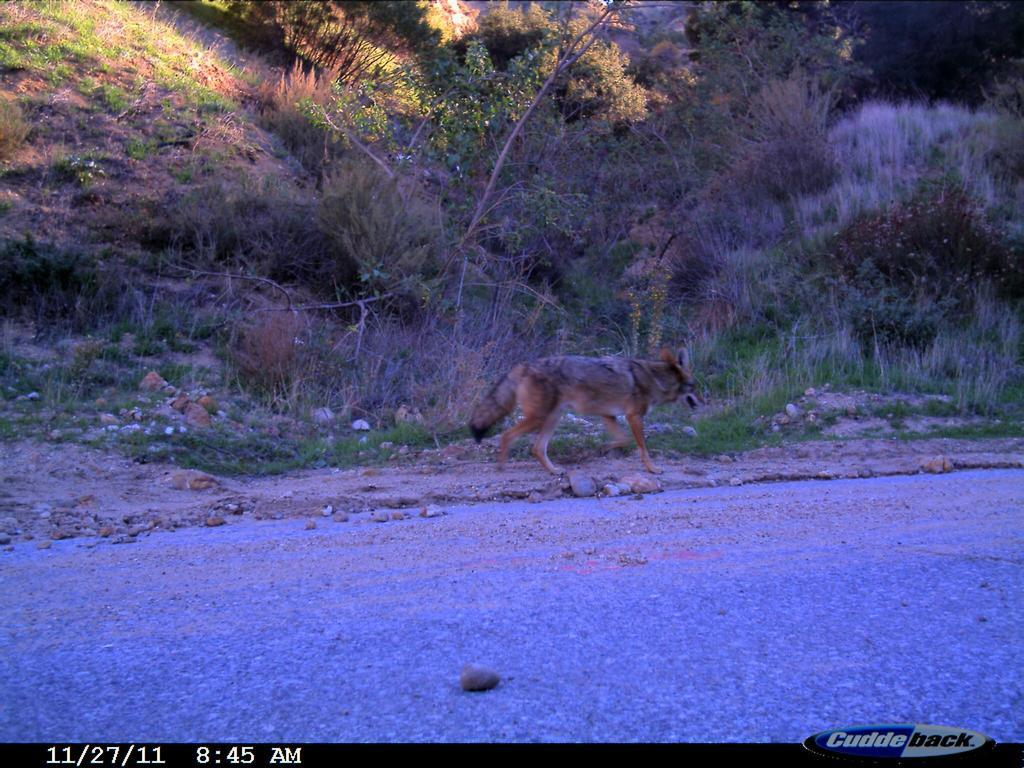coyote: (464, 341, 710, 482)
